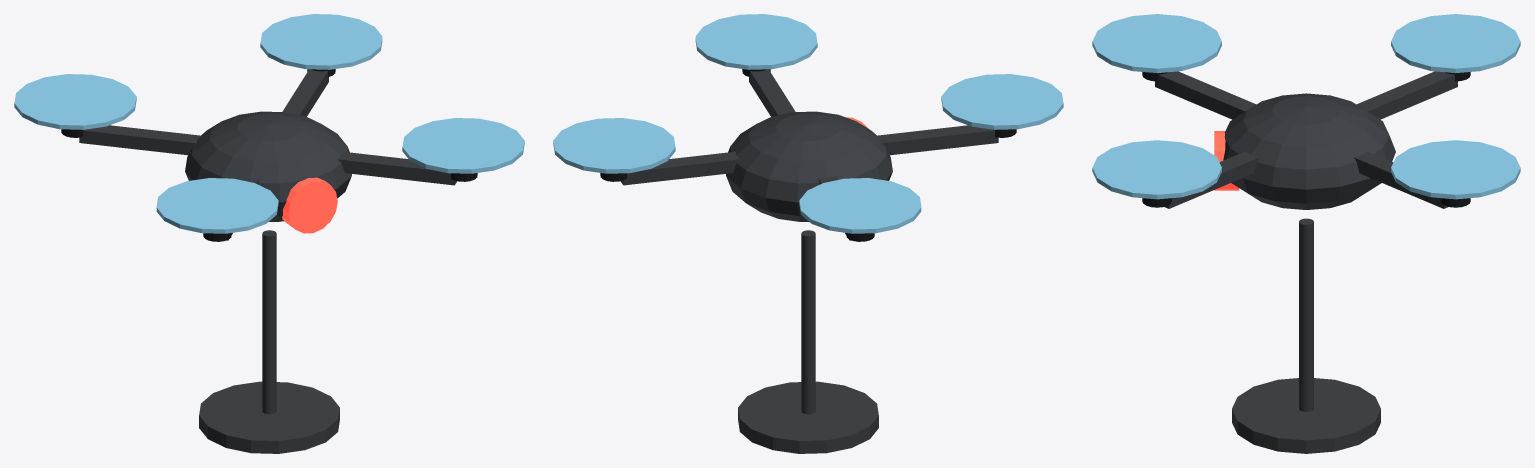
Rendered from drone-lod0.glb.
3 views of the same model, side by side, from view 1: azimuth 30°, elevation 25°; view 2: azimuth 150°, elevation 25°; view 3: azimuth 270°, elevation 25° (orthographic). The views are drawn at different scales.
Parts seen in each view (by area): view 1: drone; view 2: drone; view 3: drone.
Part boxes in pixels (x1=…): drone: x1=14, y1=14, x2=524, y2=453; drone: x1=553, y1=14, x2=1063, y2=453; drone: x1=1092, y1=14, x2=1520, y2=453.
Bounding box in the file's own units: 0.86 × 0.71 × 0.86.
